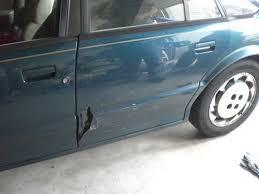doorouter-dent: (75, 47, 154, 146)
